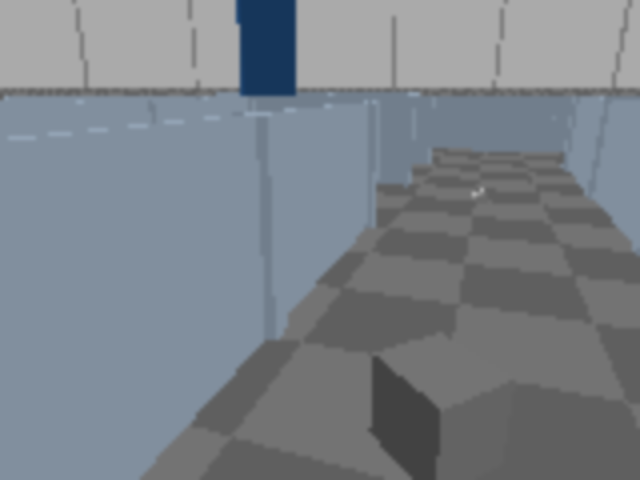puck: (470, 188, 493, 206)
